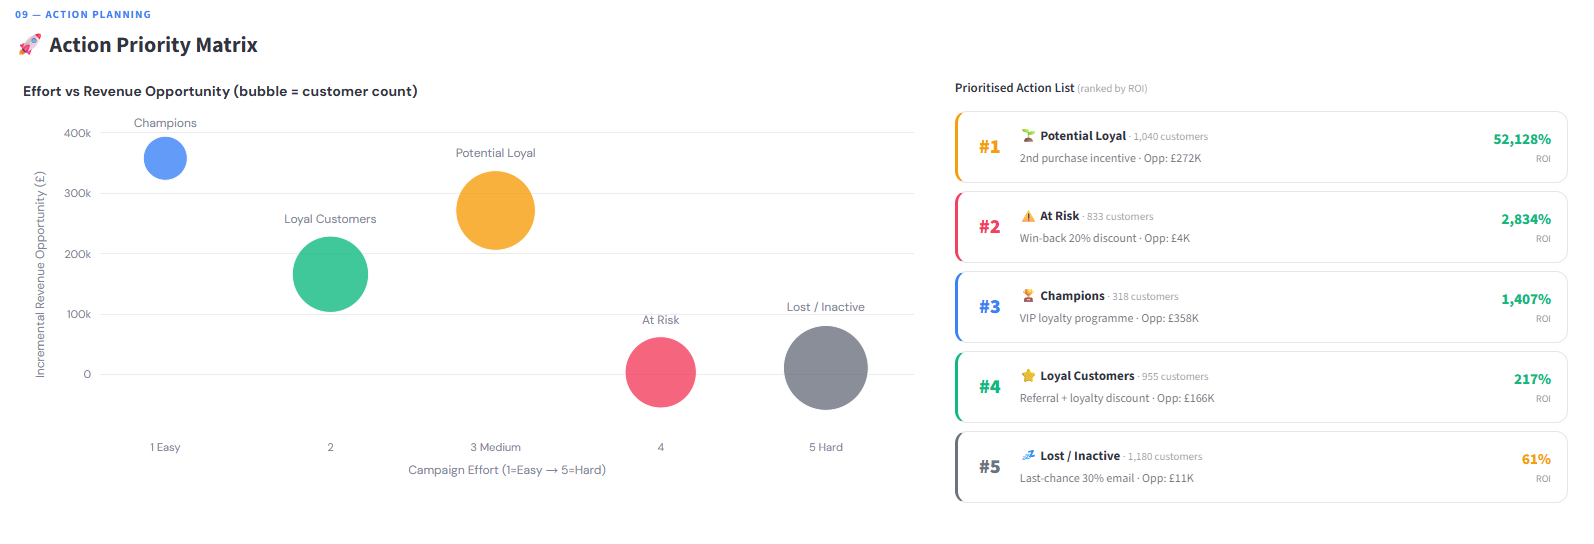

The dashboard page shown, as its layout file describes it:
{"tool":"powerbi","page":{"name":"Marketing Strategy","canvas":[1280,720],"ordinal":3},"visuals":[{"type":"clusteredBarChart","fields":{"Category":["Revenue_Opportunity.Segment"],"Y":["Sum(Revenue_Opportunity.Revenue_Opportunity)"]},"box":[563.8,100,716.2,321.2],"z":0},{"type":"card","fields":{"Values":["Churn_Risk.Total Revenue Opportunity"]},"box":[0,75,293.8,161.2],"z":1000},{"type":"tableEx","fields":{"Values":["Marketing_Strategy.Segment","Marketing_Strategy.Channel","Marketing_Strategy.Message","Marketing_Strategy.Offer","Marketing_Strategy.Goal","Marketing_Strategy.KPI","Marketing_Strategy.Risk","Marketing_Strategy.Budget_Allocation","Marketing_Strategy.Urgency","Marketing_Strategy.Expected_ROI"]},"box":[0,421,1280.1,202.8],"z":2000},{"type":"textbox","box":[0,0,1280,100],"z":3000},{"type":"clusteredBarChart","fields":{"Y":["Sum(ROI comparison bar chart.Expected_ROI)"],"Category":["ROI comparison bar chart.Segment"]},"box":[0,100,563.8,321.2],"z":4000},{"type":"pageNavigator","box":[668.8,12.5,611.2,75],"z":5000},{"type":"card","fields":{"Values":["Churn_Risk.Insight_Page4"]},"box":[0,623.6,1280.3,96.6],"z":6000}]}

Visuals, with their boxes on the page's 1280x720 design canvas (x1, y1, x2, y2). These are canvas units, not pixel positions in the 1594x544 screenshot, which may show the page scaled, cropped or inside an application window:
clusteredBarChart - Revenue_Opportunity.Segment x Sum(Revenue_Opportunity.Revenue_Opportunity): 564:100:1280:421
card - Churn_Risk.Total Revenue Opportunity: 0:75:294:236
tableEx - Marketing_Strategy.Segment x Marketing_Strategy.Channel: 0:421:1280:624
textbox: 0:0:1280:100
clusteredBarChart - Sum(ROI comparison bar chart.Expected_ROI) x ROI comparison bar chart.Segment: 0:100:564:421
pageNavigator: 669:12:1280:88
card - Churn_Risk.Insight_Page4: 0:624:1280:720
